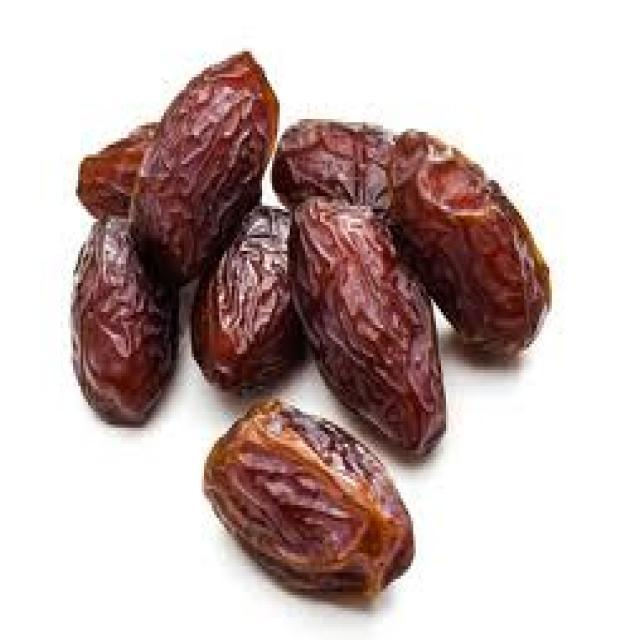Dates: (171, 51, 577, 431), (176, 398, 446, 614)
